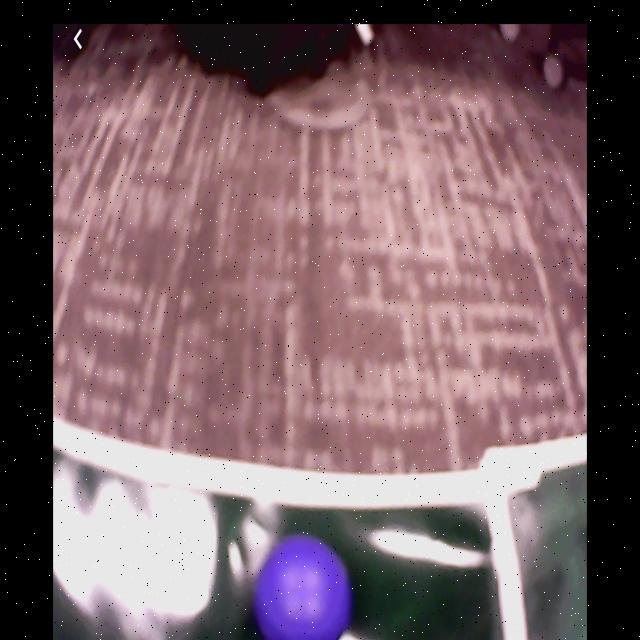ball: (259, 534, 351, 640)
